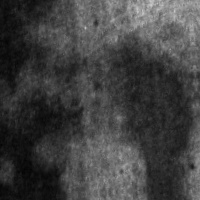patches: (98, 39, 199, 193), (0, 96, 70, 199), (0, 0, 66, 94)
